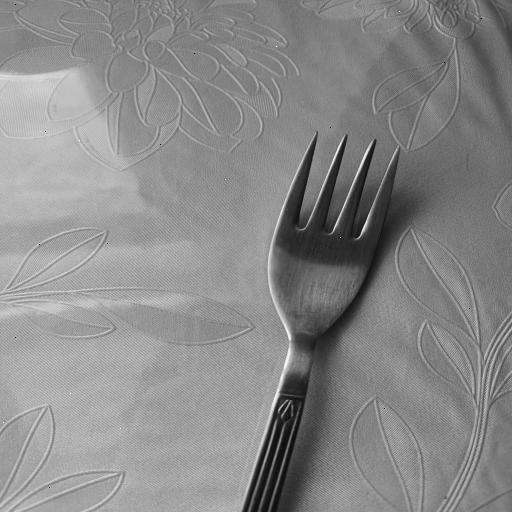fork: (238, 129, 408, 512)
